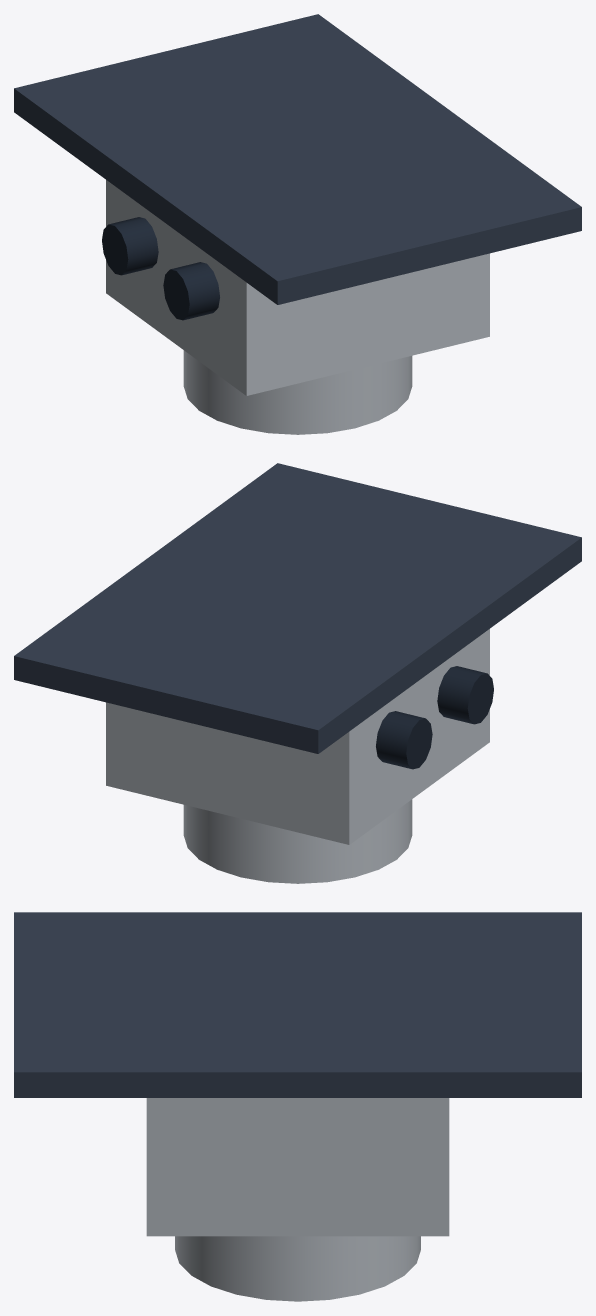
Rendered from stopper.glb.
The picture shows the model from 3 angles, top to bottom: view 1: azimuth 30°, elevation 25°; view 2: azimuth 150°, elevation 25°; view 3: azimuth 270°, elevation 25°; orthographic projection. The views are drawn at different scales.
Parts seen in each view (by area): view 1: actuator; view 2: actuator; view 3: actuator.
Boxes of the visible parts, x1,y1,x2,y2 form: actuator: [14, 14, 581, 434]; actuator: [14, 463, 581, 883]; actuator: [14, 912, 581, 1301].
Size of the model in its own units: 0.08 by 0.06 by 0.12.
